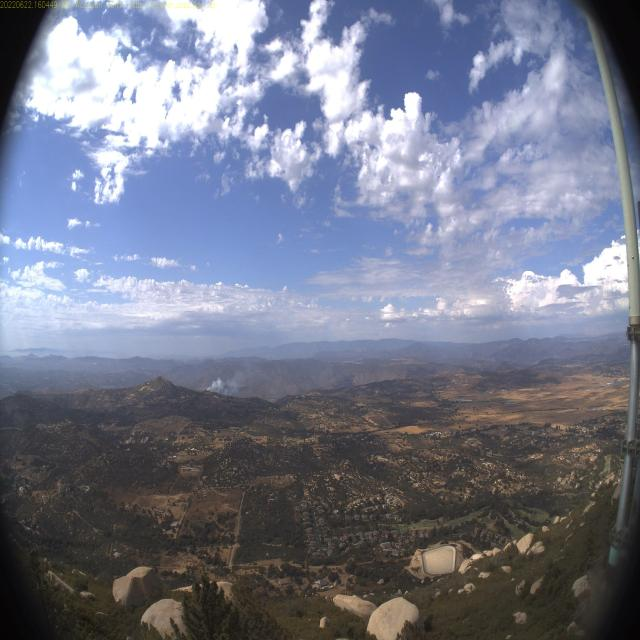smoke: (249, 343, 279, 385), (226, 366, 246, 398), (201, 376, 224, 393)
